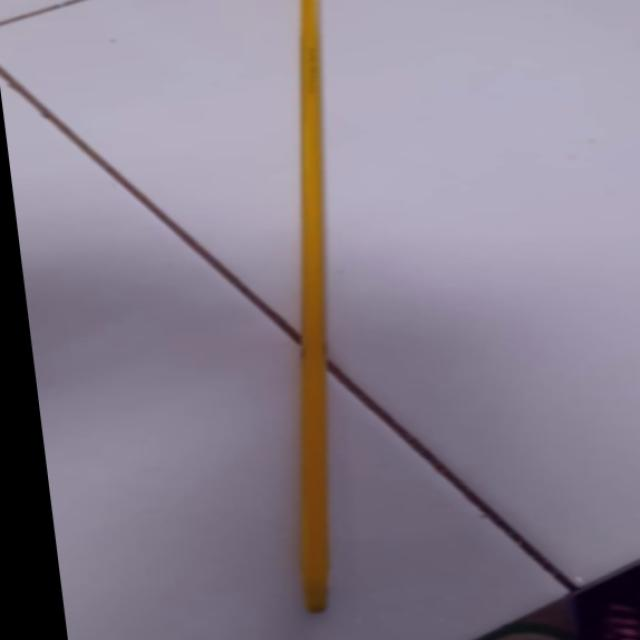Thermometer: (216, 0, 421, 617)
